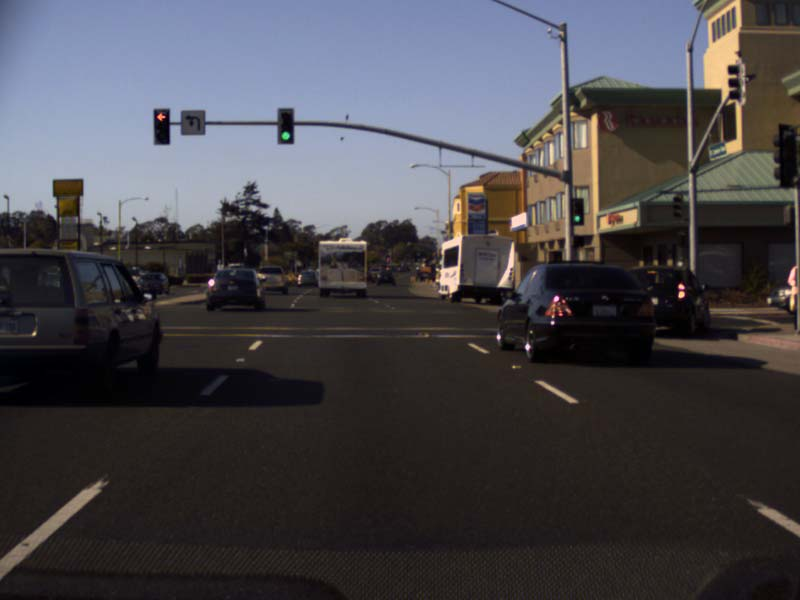Green: (277, 107, 293, 144), (571, 198, 584, 225)
Red: (153, 108, 169, 145)
